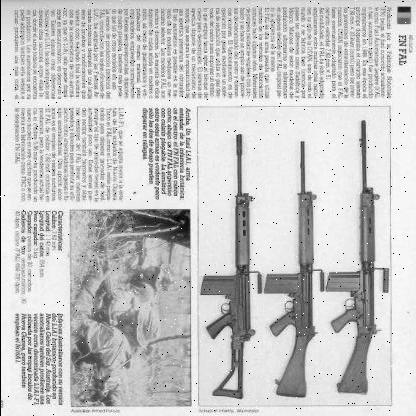rifle: (182, 114, 273, 402), (322, 118, 395, 394), (260, 128, 327, 410)
